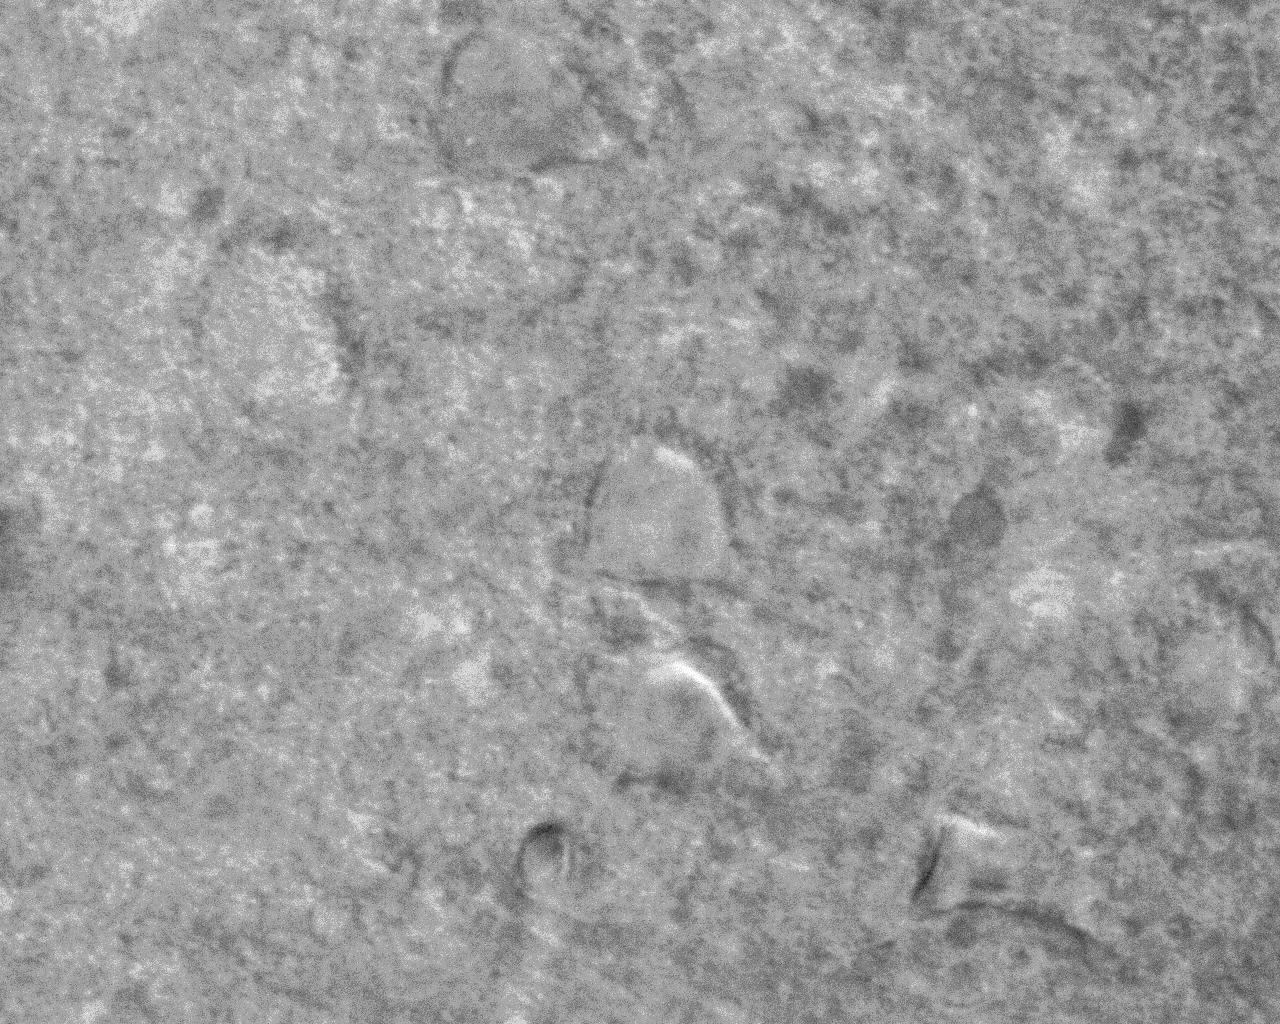neuron: (568, 420, 767, 600), (580, 650, 794, 808)
